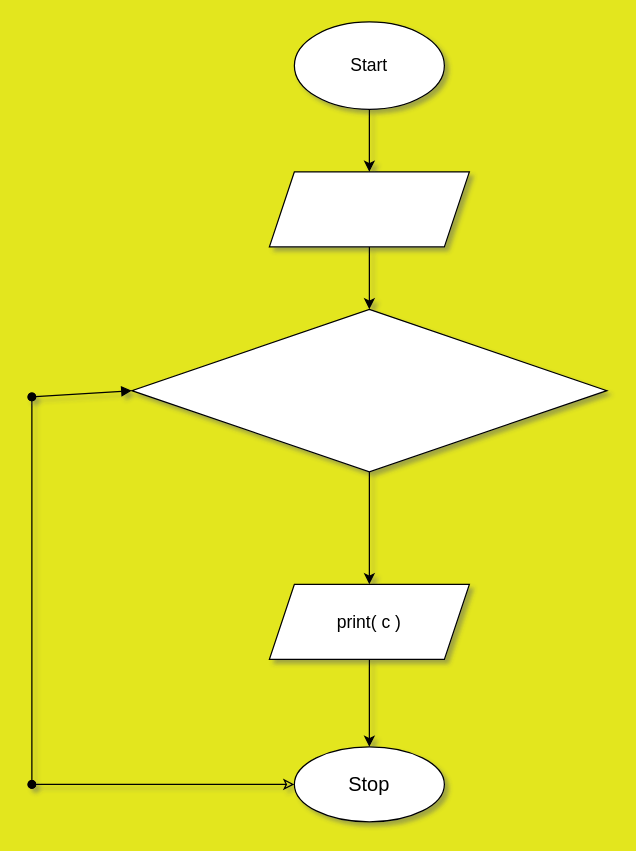
This 636x851 diagram has some shape labels left out. The shapes that lost their labels are listed below. From the top down, each one's centre as x and y in pixels, then its label:
point (368, 209): n , a = 0 , b = 1 , c
point (369, 390): for(int i = 3; i <= n; i++) { c = a + b a = b b = c
